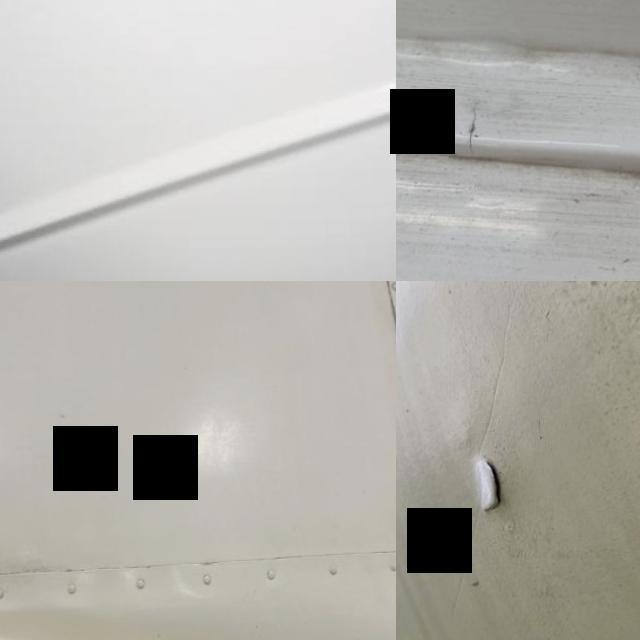Crack: (396, 65, 532, 186), (458, 448, 522, 525)
Dent: (0, 606, 225, 640)
